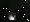person: (9, 9, 17, 20)
